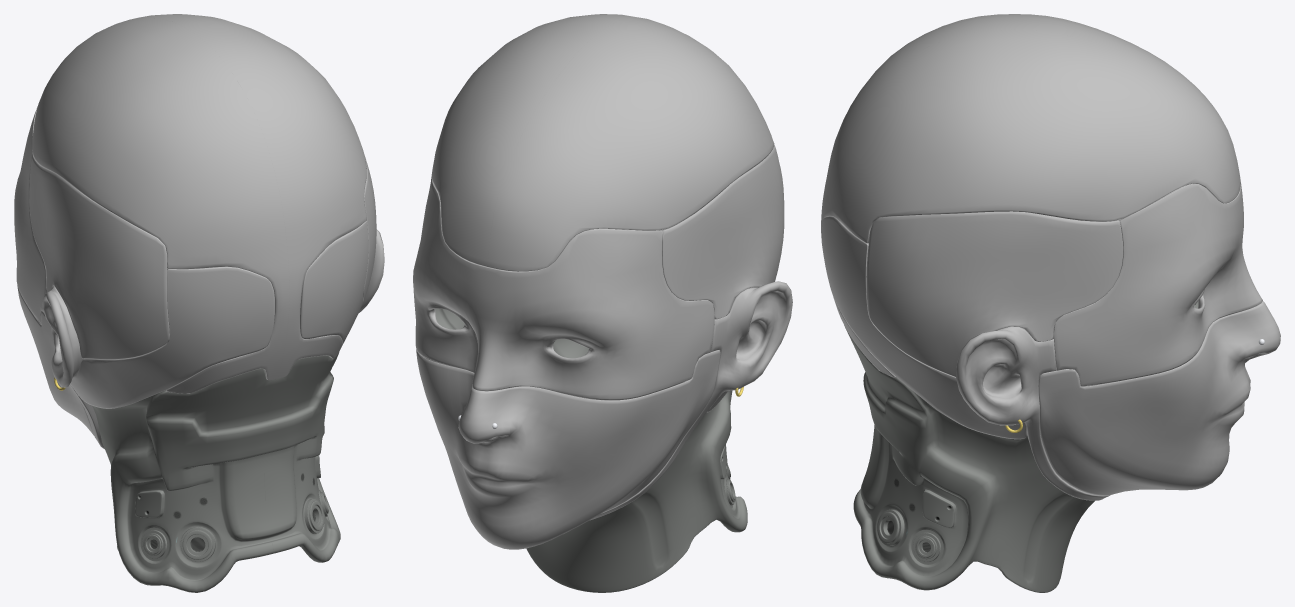
The model's file is jev_cyborg.glb.
The picture shows the model from 3 angles, left to right: view 1: azimuth 30°, elevation 25°; view 2: azimuth 150°, elevation 25°; view 3: azimuth 270°, elevation 25°; orthographic projection. The views are drawn at different scales.
Parts seen in each view (by area): view 1: Top_low, Back_low, side_low, BottomSide_low, BottomSideRight_low, Ear_low, Eyes_low, Mouth_low, sideRight_low; view 2: Top_low, Eyes_low, Mouth_low, Back_low, side_low, Ear_low, inside_low; view 3: Top_low, Back_low, sideRight_low, Mouth_low, Eyes_low, Ear_low, BottomSideRight_low.
Part boxes in pixels (left/top/right/bottom): Top_low: left=32, top=14, right=366, bottom=393; Back_low: left=92, top=338, right=340, bottom=592; side_low: left=29, top=154, right=169, bottom=359; BottomSide_low: left=70, top=266, right=274, bottom=408; BottomSideRight_low: left=300, top=221, right=368, bottom=345; Ear_low: left=42, top=229, right=384, bottom=449; Eyes_low: left=14, top=108, right=46, bottom=324; Mouth_low: left=17, top=285, right=94, bottom=435; sideRight_low: left=363, top=158, right=376, bottom=300; Top_low: left=431, top=14, right=774, bottom=271; Eyes_low: left=413, top=178, right=714, bottom=400; Mouth_low: left=416, top=349, right=720, bottom=549; Back_low: left=526, top=390, right=747, bottom=592; side_low: left=662, top=145, right=784, bottom=319; Ear_low: left=590, top=281, right=792, bottom=520; inside_low: left=435, top=308, right=588, bottom=358; Top_low: left=821, top=14, right=1240, bottom=377; Back_low: left=844, top=216, right=1094, bottom=592; sideRight_low: left=866, top=211, right=1123, bottom=376; Mouth_low: left=1038, top=301, right=1280, bottom=495; Eyes_low: left=1053, top=182, right=1262, bottom=386; Ear_low: left=956, top=326, right=1109, bottom=500; BottomSideRight_low: left=822, top=216, right=1027, bottom=439.
Size of the model in its own units: 0.7925 by 1.22 by 0.9295.
4 materials, 1 textured.
